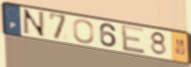6: (99, 23, 119, 49)
7: (47, 11, 69, 42)
8: (149, 31, 168, 57)
E: (120, 23, 147, 55)
N: (21, 8, 47, 39)
O: (72, 19, 95, 45)
